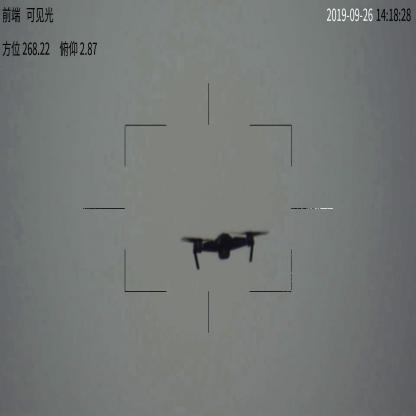uav: (175, 225, 272, 273)
